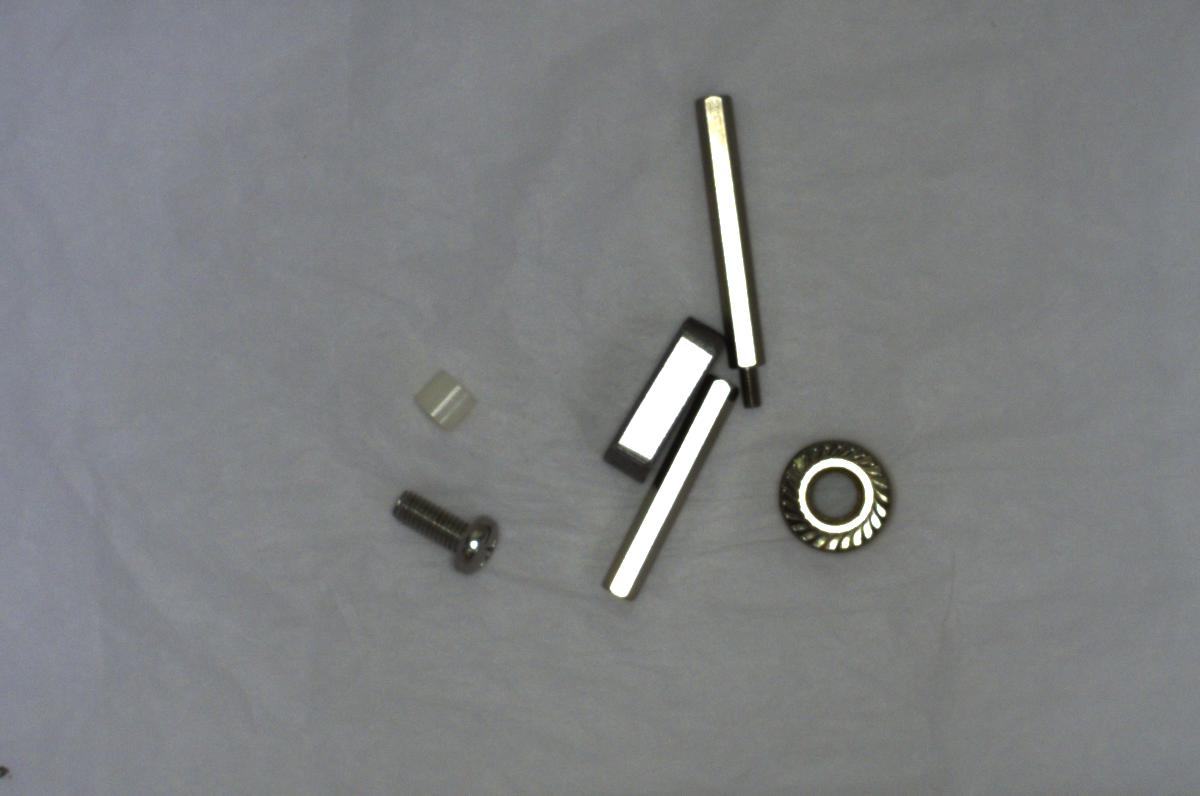Double hexagonal column: (592, 378, 742, 599)
Flange nut: (766, 424, 897, 560)
Hexagonal steel column: (692, 76, 767, 415)
Keybar: (605, 306, 730, 476)
Plastic cushion pillar: (411, 364, 479, 437)
Round head screw: (378, 482, 502, 574)
